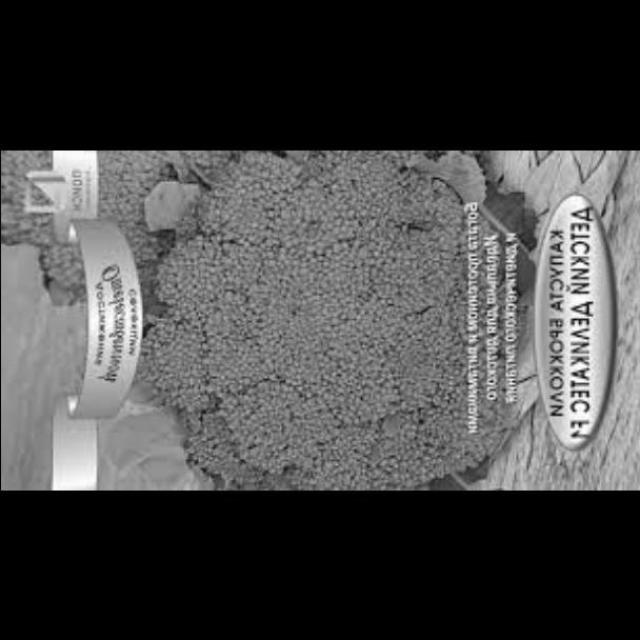bong cai xanh: (116, 149, 513, 489)
